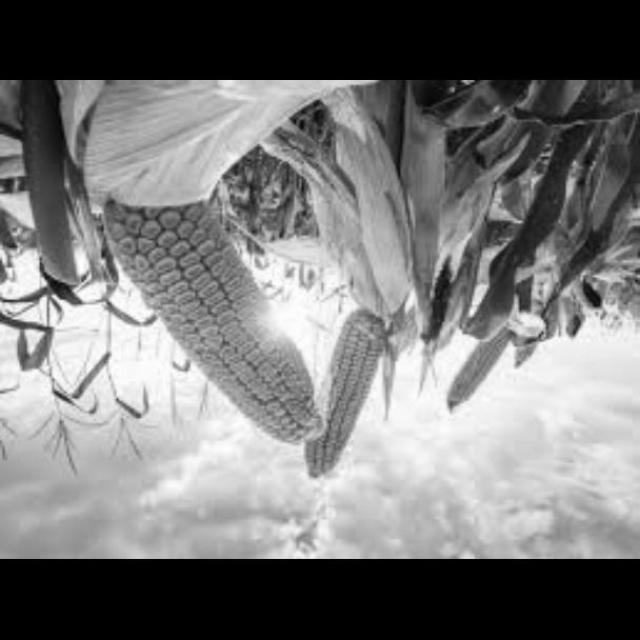cereal: (93, 160, 324, 460), (286, 292, 407, 494), (430, 280, 566, 434)
